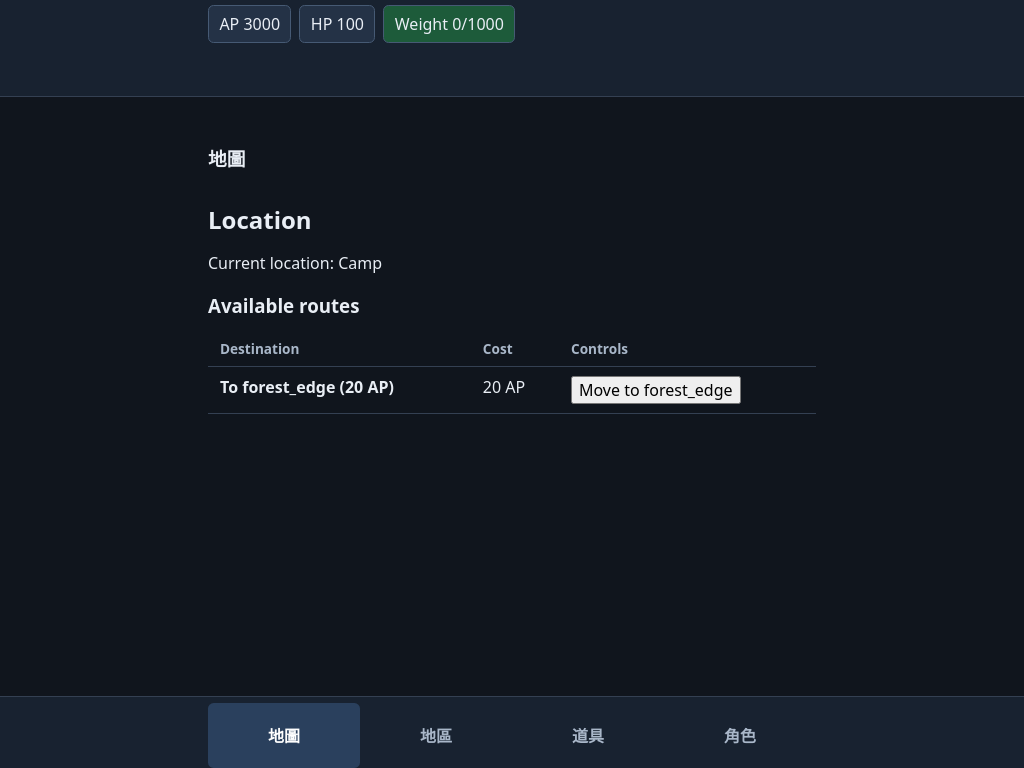
Scenario: App gameplay tab integration › retains the current Character name after rename rejection
Expected: the heading "地圖" is shown, [208,146,245,171]
Step 1. Click the button "角色" → (740, 735), box [664,703,816,767]
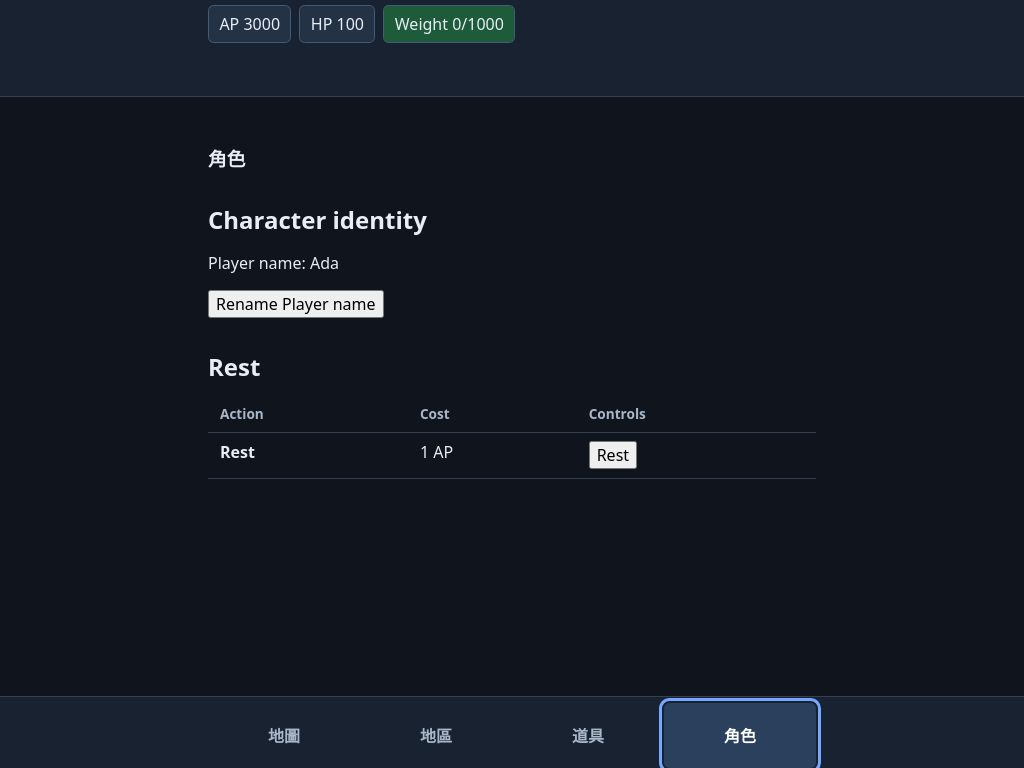
Expected: the heading "角色" is shown, [208,146,245,171]
Step 2. Click the button "Rename Player name" → (296, 304), box [208,290,384,318]
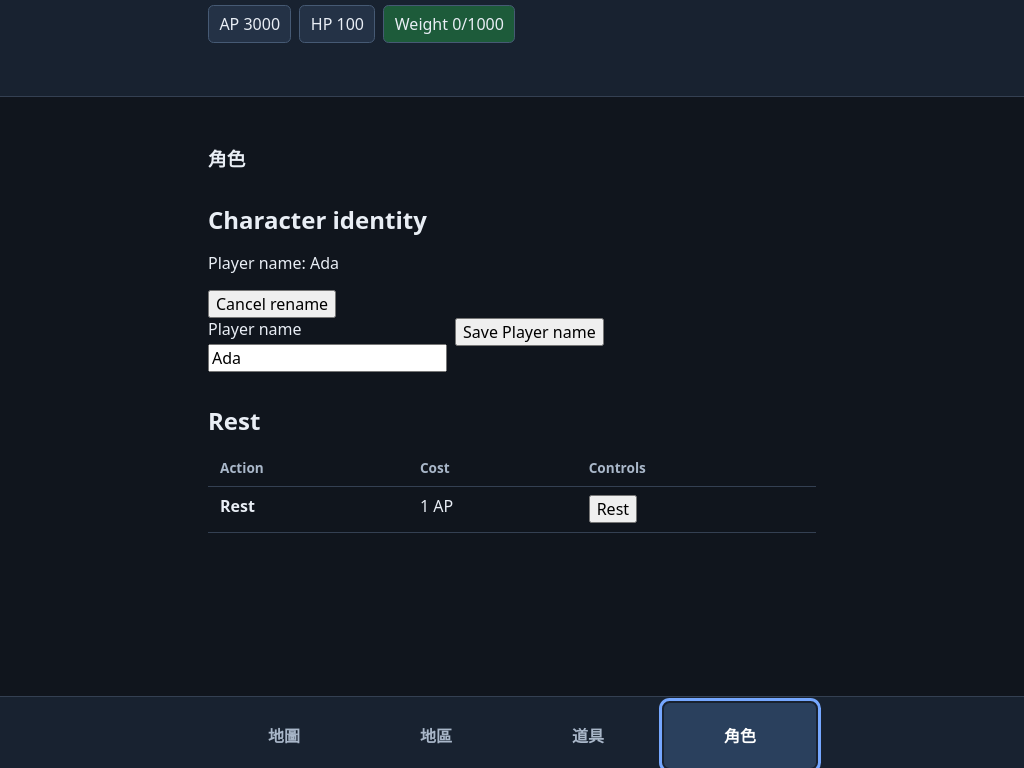
Step 3. Replace the text in the field labelled "Player name" with "Taken" → (328, 358), box [208,344,447,372]
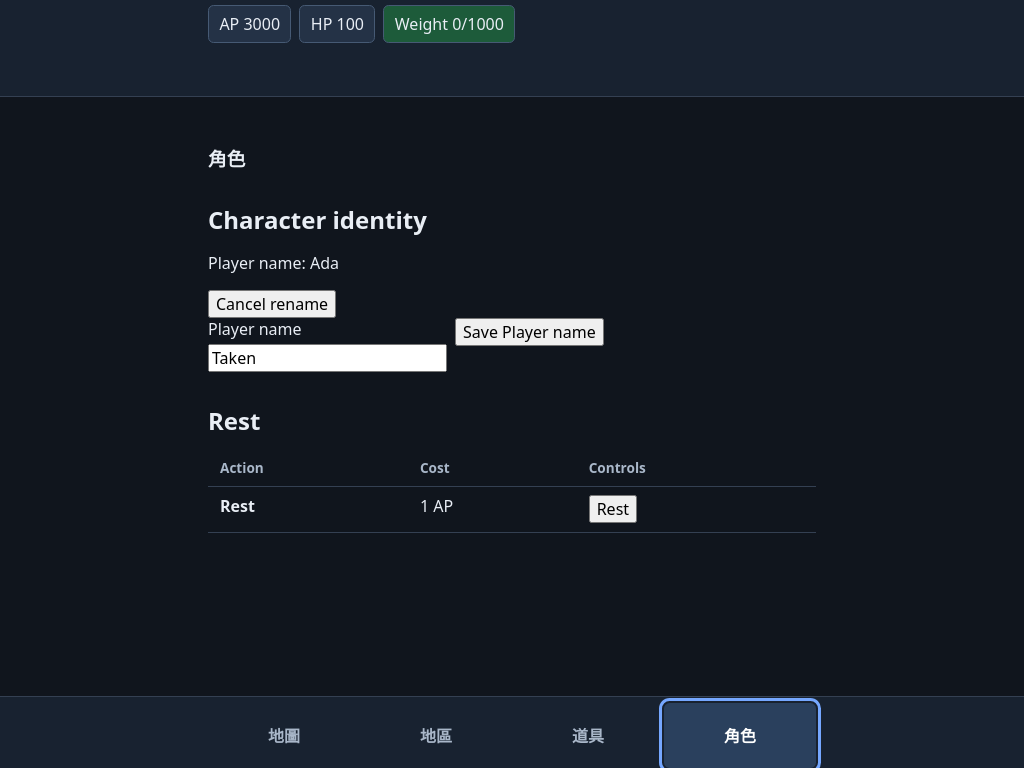
Step 4. Click the button "Save Player name" → (529, 332), box [455,318,604,346]
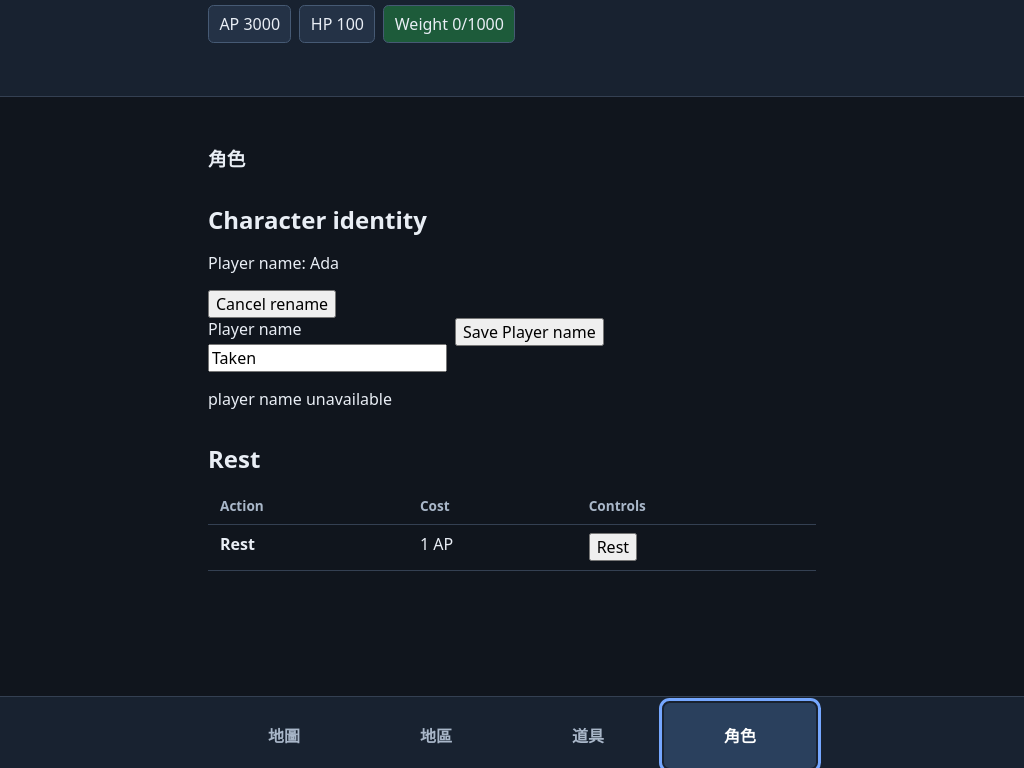
Expected: the text "Player name: Ada" is shown, [208,252,339,274]
Expected: the message reads "player name unavailable", [208,388,392,410]
